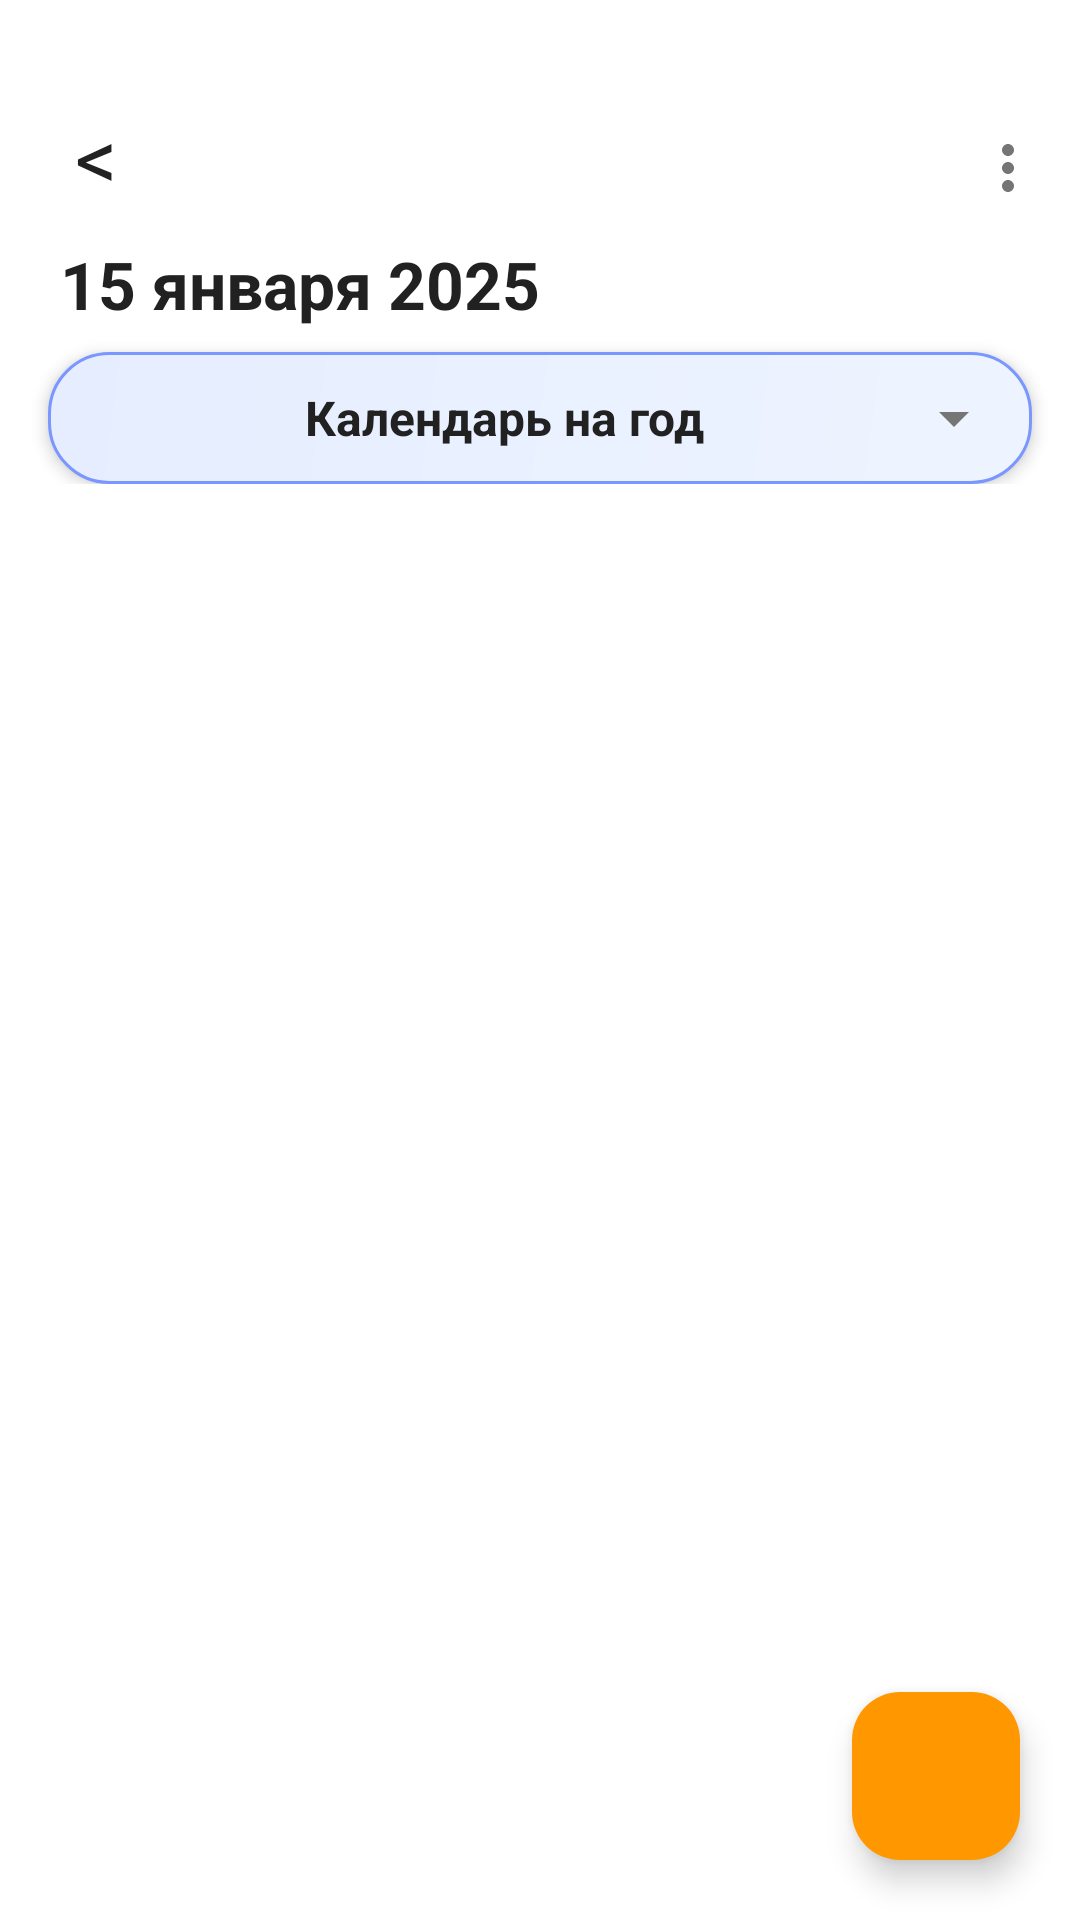

Icon bounding boxes for this 1080x1920 phone screenshot, format [x1,y1,x2,y2]:
expand more: [939,412,969,427]
